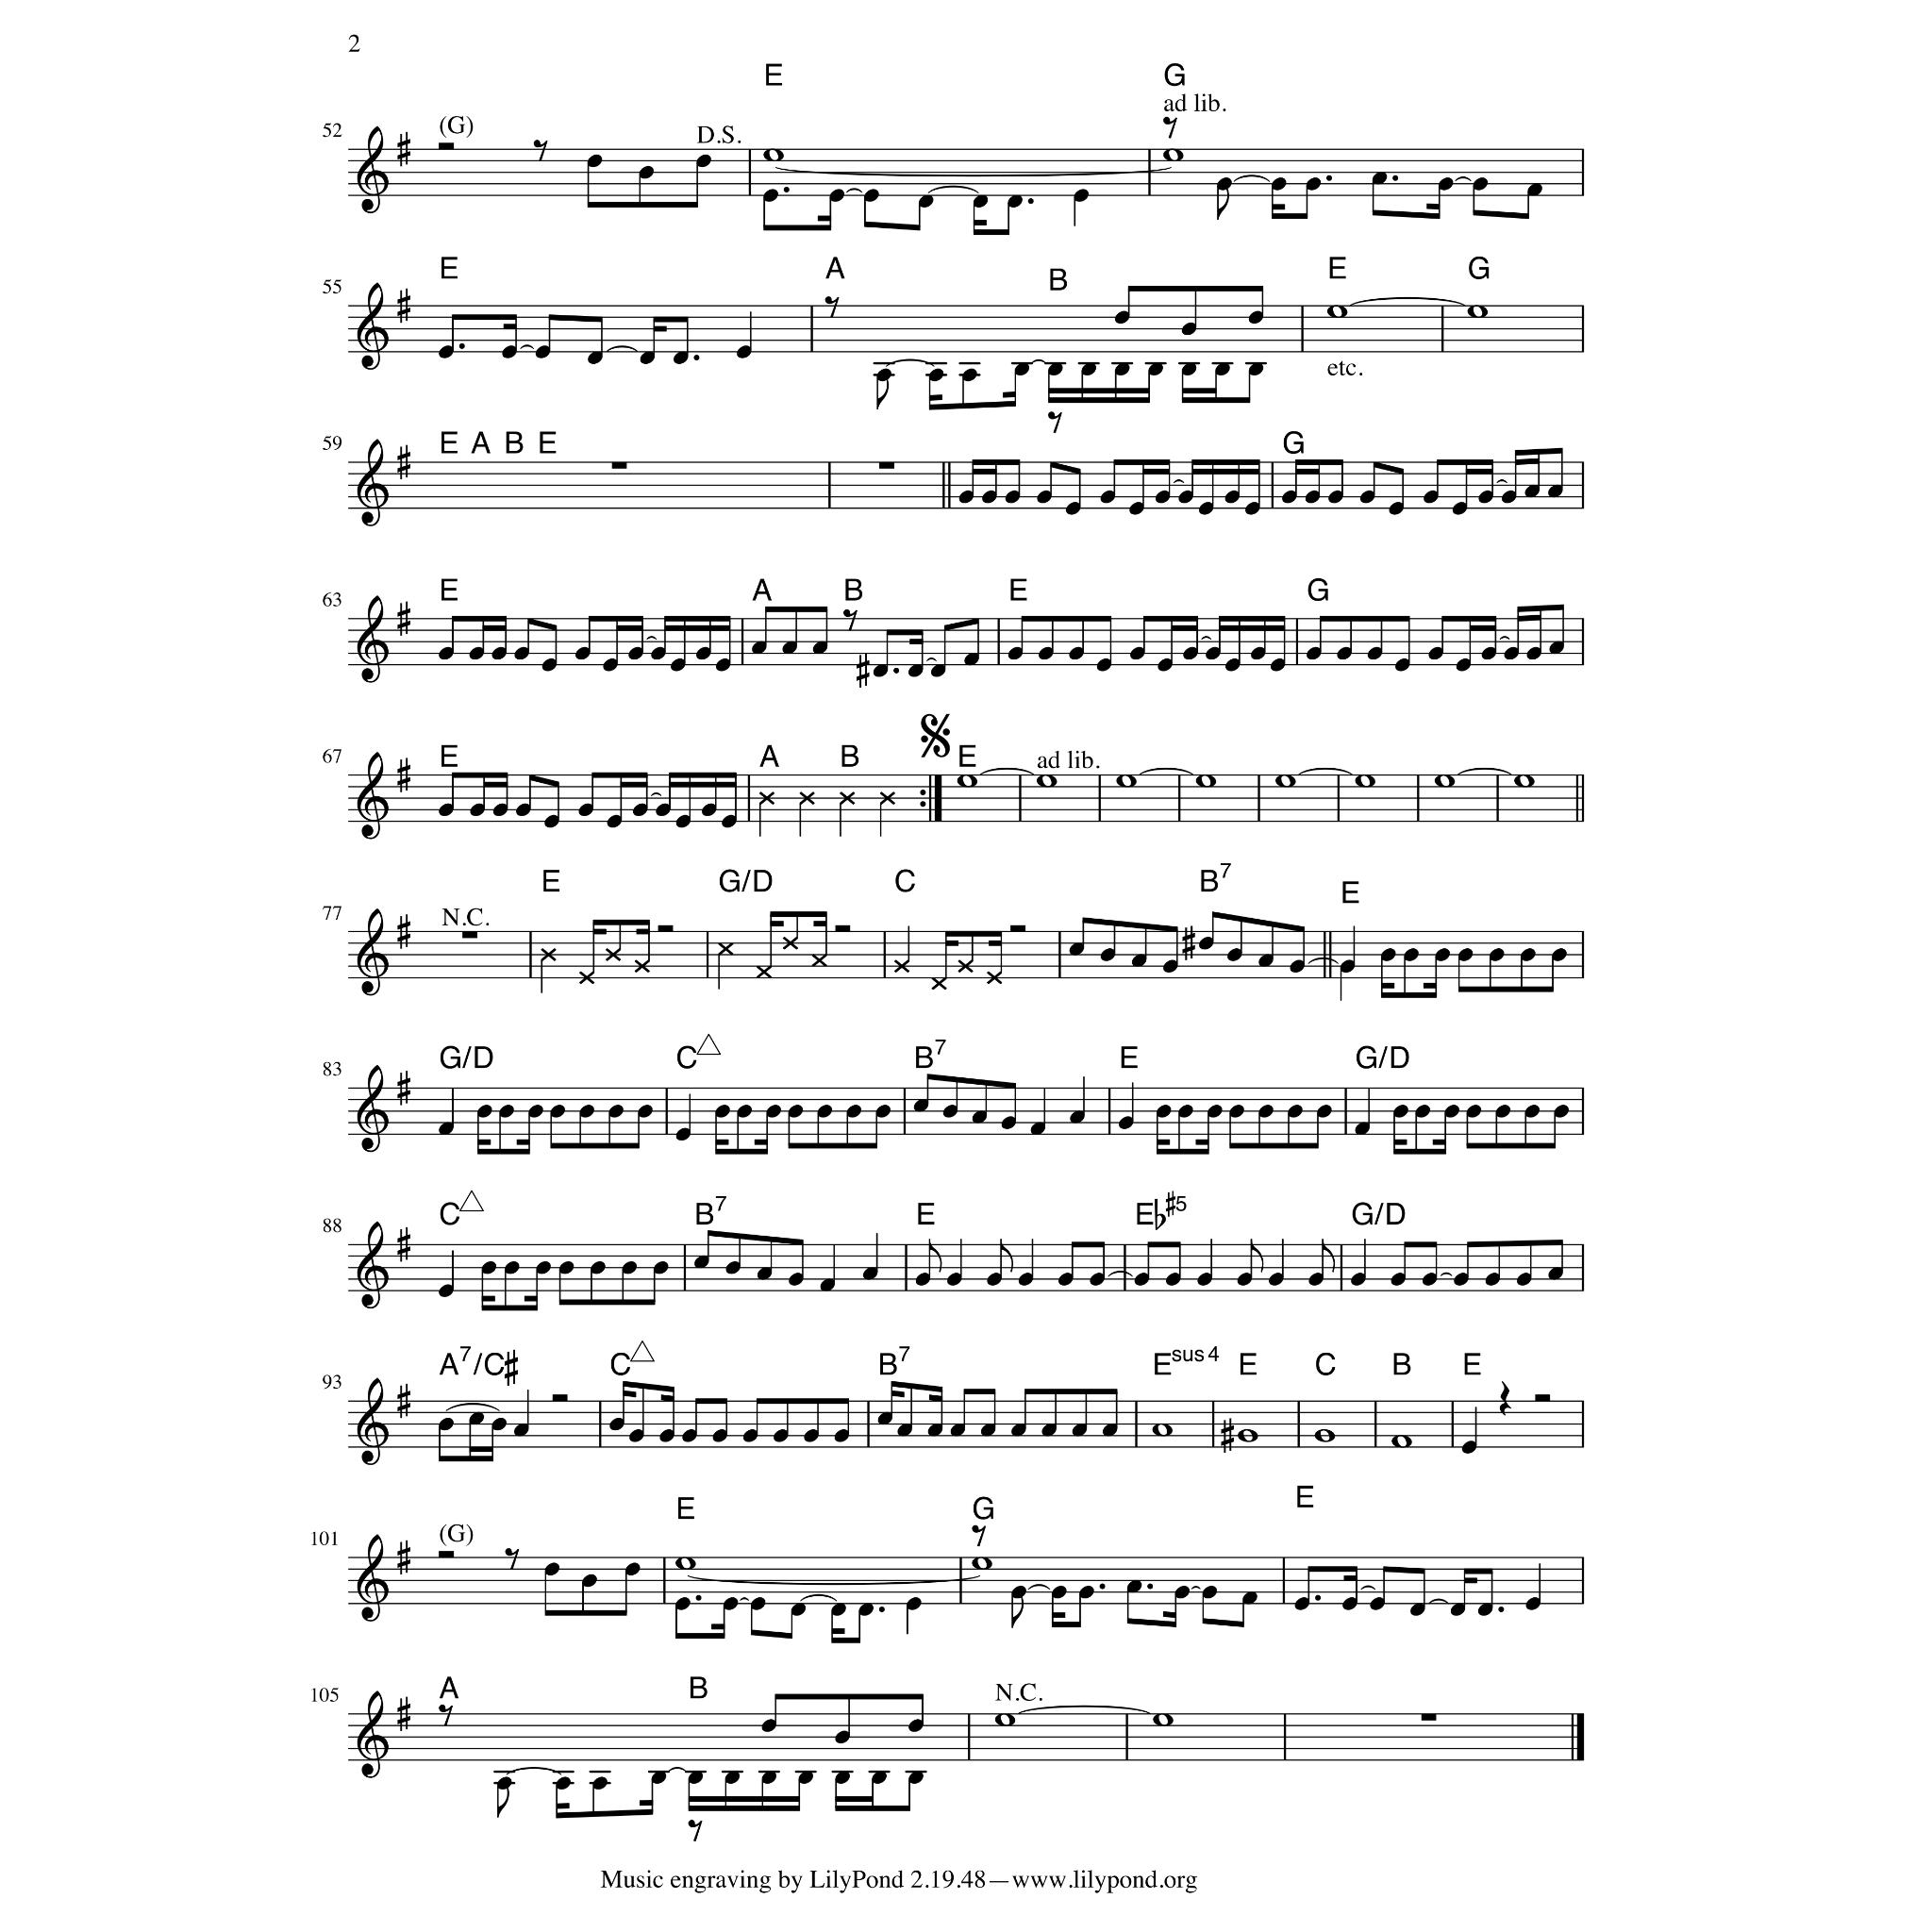flag8thDown: (1217, 186, 1230, 220), (1011, 1594, 1024, 1628), (496, 1784, 509, 1818), (877, 375, 889, 409)
flag8thUp: (1322, 1239, 1335, 1273), (1251, 1239, 1264, 1273), (1000, 1239, 1013, 1273), (929, 1239, 942, 1273)
gClef: (357, 125, 389, 214), (357, 282, 389, 371), (357, 439, 389, 527), (357, 595, 389, 684), (357, 752, 389, 841), (357, 908, 389, 997), (357, 1064, 389, 1153), (357, 1221, 389, 1309), (357, 1377, 389, 1466), (357, 1534, 389, 1623), (357, 1690, 389, 1779)
noteheadBlack: (917, 194, 934, 209), (972, 194, 989, 209), (1547, 1266, 1564, 1281), (819, 1277, 836, 1292), (949, 1423, 966, 1438), (926, 1423, 943, 1438), (896, 1423, 913, 1438), (1008, 194, 1023, 209), (1070, 1109, 1085, 1124), (972, 1109, 987, 1124), (862, 1266, 877, 1281), (757, 1266, 772, 1281), (981, 1423, 996, 1438), (1011, 1423, 1026, 1438), (1102, 1423, 1117, 1438), (1072, 1423, 1087, 1438), (1041, 1423, 1057, 1438), (513, 1423, 528, 1438), (1126, 1579, 1141, 1594), (592, 1775, 608, 1790), (555, 1775, 570, 1790), (496, 1775, 511, 1790), (1472, 177, 1489, 191), (1526, 183, 1543, 196), (638, 166, 655, 179), (762, 190, 779, 203), (828, 190, 845, 203), (862, 190, 879, 203), (1247, 363, 1264, 376), (1247, 311, 1264, 325), (1113, 363, 1130, 376), (1113, 311, 1130, 325), (1147, 363, 1164, 376), (534, 345, 551, 358), (587, 351, 604, 364), (736, 345, 753, 358), (875, 369, 892, 382), (1013, 363, 1030, 376), (1047, 363, 1064, 376), (1358, 491, 1375, 504), (1304, 491, 1321, 504), (1423, 491, 1440, 504), (1243, 502, 1260, 515), (1451, 502, 1468, 515), (1477, 491, 1494, 504), (1547, 485, 1564, 498), (981, 491, 998, 504), (1004, 491, 1021, 504), (1128, 502, 1145, 515), (1177, 491, 1194, 504), (1198, 502, 1215, 515), (1036, 491, 1053, 504), (1064, 502, 1081, 515), (1306, 647, 1323, 660), (1270, 658, 1287, 672), (1068, 647, 1085, 660), (1128, 647, 1145, 660), (1157, 658, 1174, 672), (1366, 647, 1383, 660), (1394, 658, 1411, 672), (1336, 647, 1353, 660), (602, 658, 619, 672), (574, 647, 591, 660), (694, 647, 711, 660), (513, 647, 530, 660), (491, 647, 508, 660), (468, 647, 485, 660), (872, 664, 889, 677), (811, 641, 828, 655), (930, 664, 947, 677), (781, 641, 798, 655), (751, 641, 768, 655), (606, 815, 623, 828), (577, 804, 594, 817), (543, 815, 560, 828), (655, 804, 672, 817), (798, 791, 815, 805), (721, 815, 738, 828), (1226, 948, 1243, 961), (1198, 937, 1215, 950), (1289, 960, 1306, 974), (1068, 942, 1085, 956), (1162, 960, 1179, 974), (1130, 955, 1147, 968), (1551, 948, 1568, 961), (1519, 948, 1536, 961), (1379, 948, 1396, 961), (1457, 948, 1474, 961), (1434, 948, 1451, 961), (717, 942, 734, 956), (540, 948, 557, 961), (930, 977, 947, 991), (957, 960, 974, 974), (810, 955, 827, 968), (1177, 1105, 1194, 1118), (1155, 1105, 1172, 1118), (1287, 1105, 1304, 1118), (1228, 1105, 1245, 1118), (1000, 1116, 1017, 1129), (1553, 1105, 1570, 1118), (1494, 1105, 1511, 1118), (1392, 1105, 1409, 1118), (1443, 1105, 1460, 1118), (608, 1105, 625, 1118), (549, 1105, 566, 1118), (498, 1105, 515, 1118), (787, 1105, 804, 1118), (736, 1105, 753, 1118), (941, 1105, 958, 1118), (1196, 1273, 1213, 1286), (1164, 1273, 1181, 1286), (1236, 1273, 1253, 1286), (1307, 1273, 1324, 1286), (1057, 1273, 1074, 1286), (1017, 1273, 1034, 1286), (1089, 1273, 1106, 1286), (1453, 1273, 1470, 1286), (621, 1261, 638, 1274), (589, 1261, 606, 1274), (724, 1261, 741, 1274), (1460, 1441, 1477, 1454), (681, 1429, 698, 1442), (658, 1429, 675, 1442), (628, 1429, 645, 1442), (491, 1418, 508, 1431), (468, 1412, 485, 1425), (741, 1429, 758, 1442), (711, 1429, 728, 1442), (1241, 1591, 1258, 1605), (1174, 1586, 1191, 1599), (1409, 1603, 1426, 1616), (1449, 1603, 1466, 1616), (1341, 1597, 1358, 1610), (674, 1597, 691, 1610), (543, 1562, 560, 1575), (830, 1603, 847, 1616), (834, 1731, 851, 1744), (834, 1771, 851, 1784), (760, 1771, 777, 1784), (760, 1719, 777, 1732), (687, 1771, 704, 1784), (1217, 177, 1232, 191), (1272, 177, 1287, 191), (1306, 177, 1321, 191), (1372, 172, 1387, 185), (1074, 190, 1089, 203), (1438, 177, 1453, 191), (587, 155, 602, 168), (696, 155, 711, 168), (1215, 363, 1230, 376), (1081, 363, 1096, 376), (1181, 323, 1196, 336), (1181, 363, 1196, 376), (640, 351, 655, 364), (673, 351, 688, 364), (439, 345, 454, 358), (502, 345, 517, 358), (928, 369, 943, 382), (962, 369, 977, 382), (1328, 491, 1343, 504), (1389, 502, 1404, 515), (1281, 491, 1296, 504), (1224, 491, 1240, 504), (1502, 491, 1517, 504), (1524, 485, 1540, 498), (958, 491, 974, 504), (1155, 491, 1170, 504), (1100, 491, 1115, 504), (1251, 647, 1266, 660), (1224, 658, 1240, 672), (1206, 647, 1221, 660), (1183, 647, 1198, 660), (1038, 647, 1053, 660), (1096, 658, 1111, 672), (1549, 641, 1564, 655), (1526, 647, 1541, 660), (1428, 647, 1443, 660), (1504, 647, 1519, 660), (1481, 647, 1496, 660), (1456, 658, 1471, 672), (651, 647, 666, 660), (628, 647, 643, 660), (715, 658, 730, 672), (670, 658, 685, 672), (439, 647, 454, 660), (541, 658, 557, 672), (1008, 647, 1023, 660), (964, 653, 979, 666), (908, 664, 923, 677), (675, 815, 691, 828), (516, 804, 531, 817), (632, 804, 647, 817), (439, 804, 454, 817), (492, 804, 508, 817), (470, 804, 485, 817), (879, 791, 894, 805), (840, 791, 855, 805), (758, 791, 774, 805), (702, 804, 717, 817), (1258, 955, 1274, 968), (1340, 960, 1355, 974), (1100, 948, 1115, 961), (1489, 948, 1504, 961), (1404, 948, 1419, 961), (634, 960, 649, 974), (606, 948, 621, 961), (757, 966, 772, 979), (579, 972, 594, 985), (894, 960, 909, 974), (987, 972, 1002, 985), (783, 937, 798, 950), (1207, 1105, 1223, 1118), (1317, 1105, 1332, 1118), (1258, 1105, 1274, 1118), (1030, 1123, 1045, 1136), (1119, 1116, 1134, 1129), (1524, 1105, 1540, 1118), (1355, 1123, 1370, 1136), (1466, 1105, 1481, 1118), (1415, 1105, 1430, 1118), (638, 1105, 653, 1118), (579, 1105, 594, 1118), (675, 1128, 691, 1141), (439, 1123, 454, 1136), (528, 1105, 543, 1118), (477, 1105, 492, 1118), (817, 1105, 832, 1118), (715, 1105, 730, 1118), (846, 1105, 861, 1118), (913, 1099, 928, 1112), (875, 1105, 891, 1118), (766, 1105, 781, 1118), (1351, 1273, 1366, 1286), (1268, 1273, 1283, 1286), (987, 1273, 1002, 1286), (1134, 1273, 1149, 1286), (1517, 1273, 1532, 1286), (1391, 1273, 1406, 1286), (1485, 1273, 1500, 1286), (1422, 1273, 1437, 1286), (558, 1261, 574, 1274), (694, 1256, 709, 1269), (653, 1261, 668, 1274), (439, 1285, 454, 1298), (536, 1261, 551, 1274), (504, 1261, 519, 1274), (947, 1273, 962, 1286), (481, 1261, 496, 1274), (915, 1273, 930, 1286), (789, 1273, 804, 1286), (609, 1418, 625, 1431), (439, 1418, 454, 1431), (877, 1412, 892, 1425), (834, 1429, 849, 1442), (774, 1429, 789, 1442), (804, 1429, 819, 1442), (1294, 1597, 1309, 1610), (1202, 1586, 1217, 1599), (1079, 1586, 1094, 1599), (1051, 1586, 1066, 1599), (1011, 1586, 1026, 1599), (1370, 1597, 1385, 1610), (1525, 1597, 1541, 1610), (1477, 1603, 1492, 1616), (625, 1562, 640, 1575), (582, 1574, 597, 1588), (906, 1597, 921, 1610), (723, 1597, 738, 1610), (858, 1603, 874, 1616), (791, 1603, 806, 1616), (751, 1597, 766, 1610), (872, 1771, 887, 1784), (908, 1771, 923, 1784), (908, 1719, 923, 1732), (651, 1771, 666, 1784), (798, 1771, 813, 1784), (724, 1771, 740, 1784)
noteheadWhole: (1151, 1423, 1174, 1438), (1391, 1434, 1413, 1449), (1162, 149, 1185, 162), (762, 149, 785, 162), (1466, 306, 1489, 319), (1194, 774, 1217, 788), (1274, 774, 1296, 788), (1115, 774, 1138, 788), (1313, 1429, 1336, 1442), (674, 1557, 696, 1570), (1326, 306, 1347, 319), (1036, 774, 1057, 788), (1355, 774, 1375, 788), (1513, 774, 1534, 788), (1434, 774, 1455, 788), (957, 774, 977, 788), (1238, 1429, 1258, 1442), (972, 1557, 992, 1570), (994, 1713, 1015, 1726), (1153, 1713, 1174, 1726)
rest8th: (1162, 117, 1177, 140), (533, 140, 548, 162), (824, 296, 840, 319), (1047, 411, 1062, 434), (842, 609, 858, 632), (505, 1548, 520, 1571), (971, 1524, 986, 1547), (438, 1705, 453, 1727), (688, 1820, 703, 1842)
restHalf: (438, 142, 455, 150), (657, 924, 674, 932), (1009, 924, 1026, 932), (834, 924, 851, 932), (1534, 1394, 1551, 1402), (551, 1394, 568, 1402), (438, 1551, 455, 1558)
restQuarter: (1500, 1381, 1511, 1417)
restWhole: (879, 462, 894, 470), (611, 462, 626, 470), (462, 931, 477, 939), (1421, 1714, 1436, 1722)
